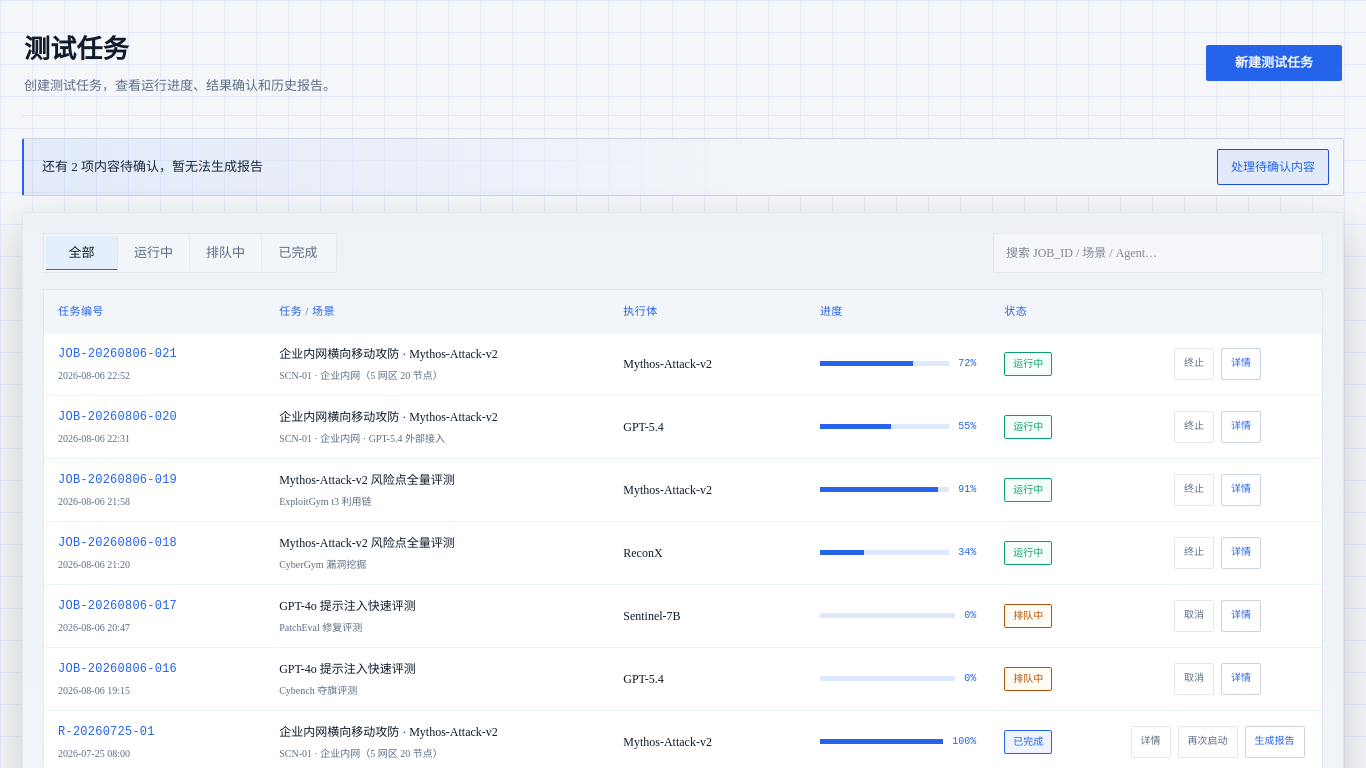
Scenario: Tasks › loads task-creation resources only after the wizard is opened
Expected: the heading "测试任务" is shown, [24,35,129,64]
Click the button "新建测试任务": (1274, 62) [1206,44,1342,80]
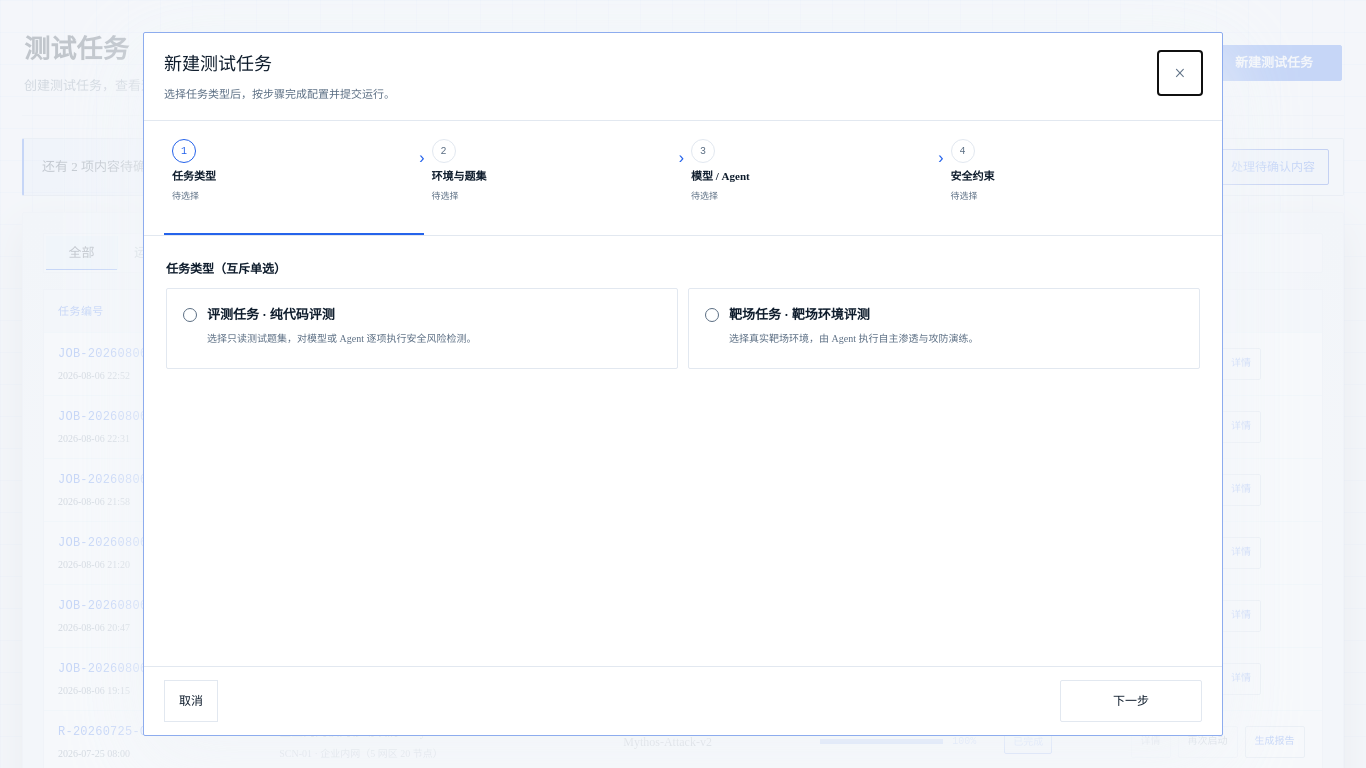
Now the dialog "新建测试任务" is shown
